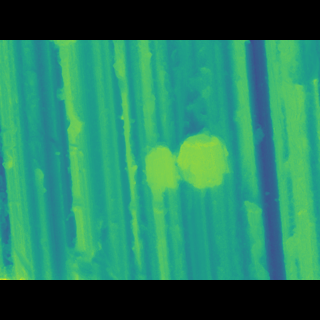Loch: (127, 138, 230, 204), (238, 189, 265, 250)
